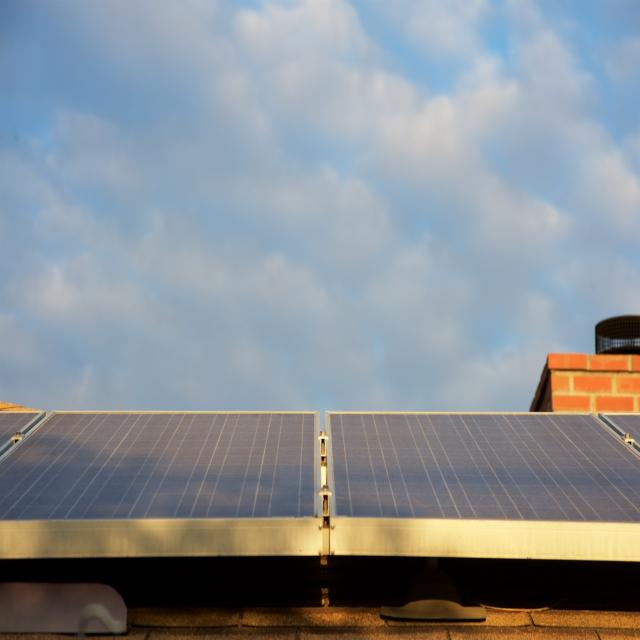dust-solar-panel: (0, 407, 640, 529)
